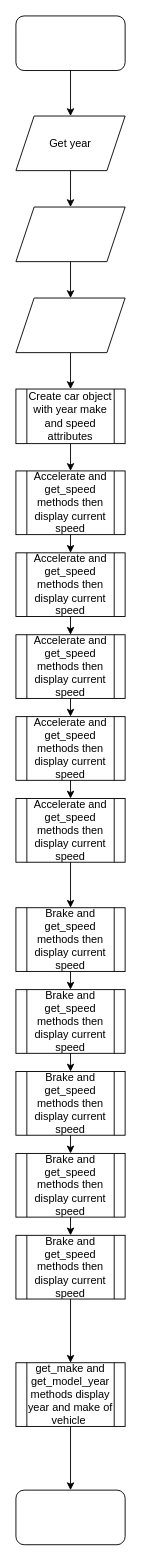
Some shapes in this 141 by 1561 pixel diagram are drawn without their labels. Each missing label, with the box of its shape:
End: (15, 1489, 125, 1545)
Get make: (15, 206, 125, 262)
Speed = 0: (15, 297, 125, 353)
Start: (15, 15, 125, 71)
